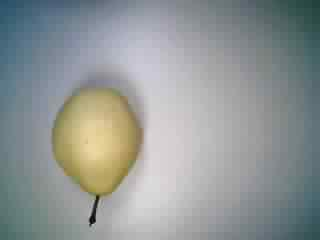pear: (37, 77, 152, 232)
